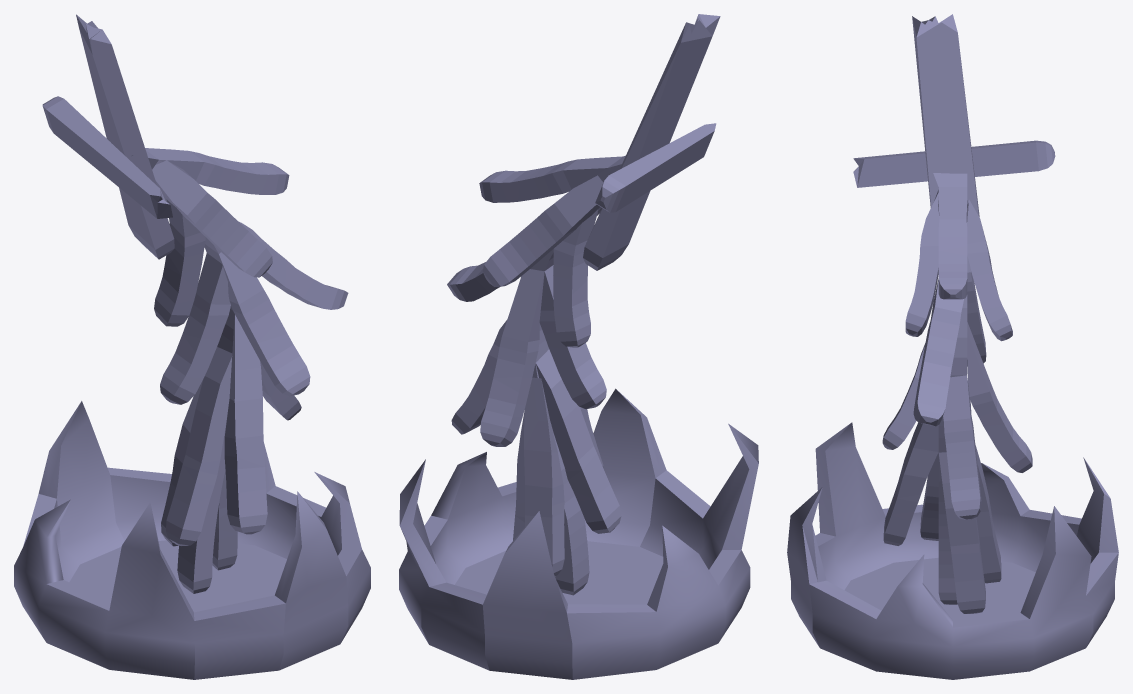
File: reiTalherblend.fbx
3 renders of one model, left to right at view 1: azimuth 30°, elevation 25°; view 2: azimuth 150°, elevation 25°; view 3: azimuth 270°, elevation 25°, orthographic. The views are drawn at different scales.
Visible parts, largest first — view 1: Cube.001; view 2: Cube.001; view 3: Cube.001.
Part boxes in pixels (<box>): Cube.001: <box>14,14,370,679</box>; Cube.001: <box>399,14,758,679</box>; Cube.001: <box>787,14,1118,679</box>.
Size of the model in its own units: 364 by 706 by 384.
